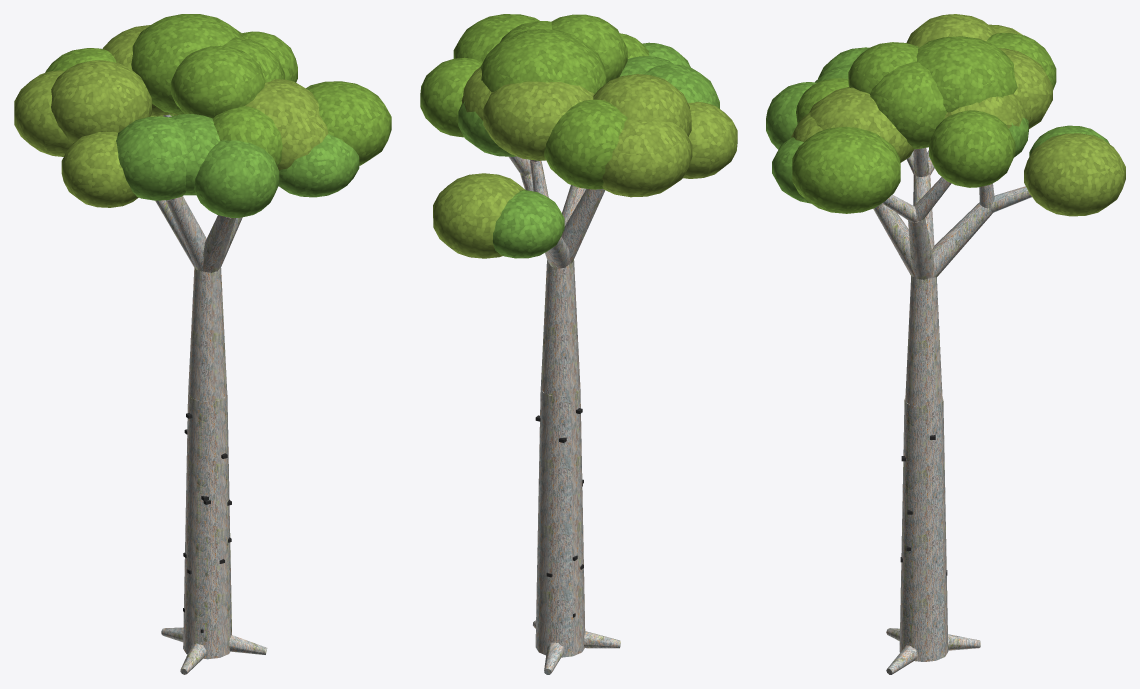
Rendered from a-realistic-birch-tree-7-metres-tall-85321-realistic.glb.
3 views of the same model, side by side, from view 1: azimuth 30°, elevation 25°; view 2: azimuth 150°, elevation 25°; view 3: azimuth 270°, elevation 25° (orthographic). The views are drawn at different scales.
Parts seen in each view (by area): view 1: tree; view 2: tree; view 3: tree.
Boxes of the visible parts, x1,y1,x2,y2 form: tree: [14, 14, 391, 674]; tree: [420, 14, 737, 674]; tree: [766, 14, 1125, 674].
Size of the model in its own units: 4.73 by 9.58 by 5.11.
Materials: 5 (4 with a texture image).
